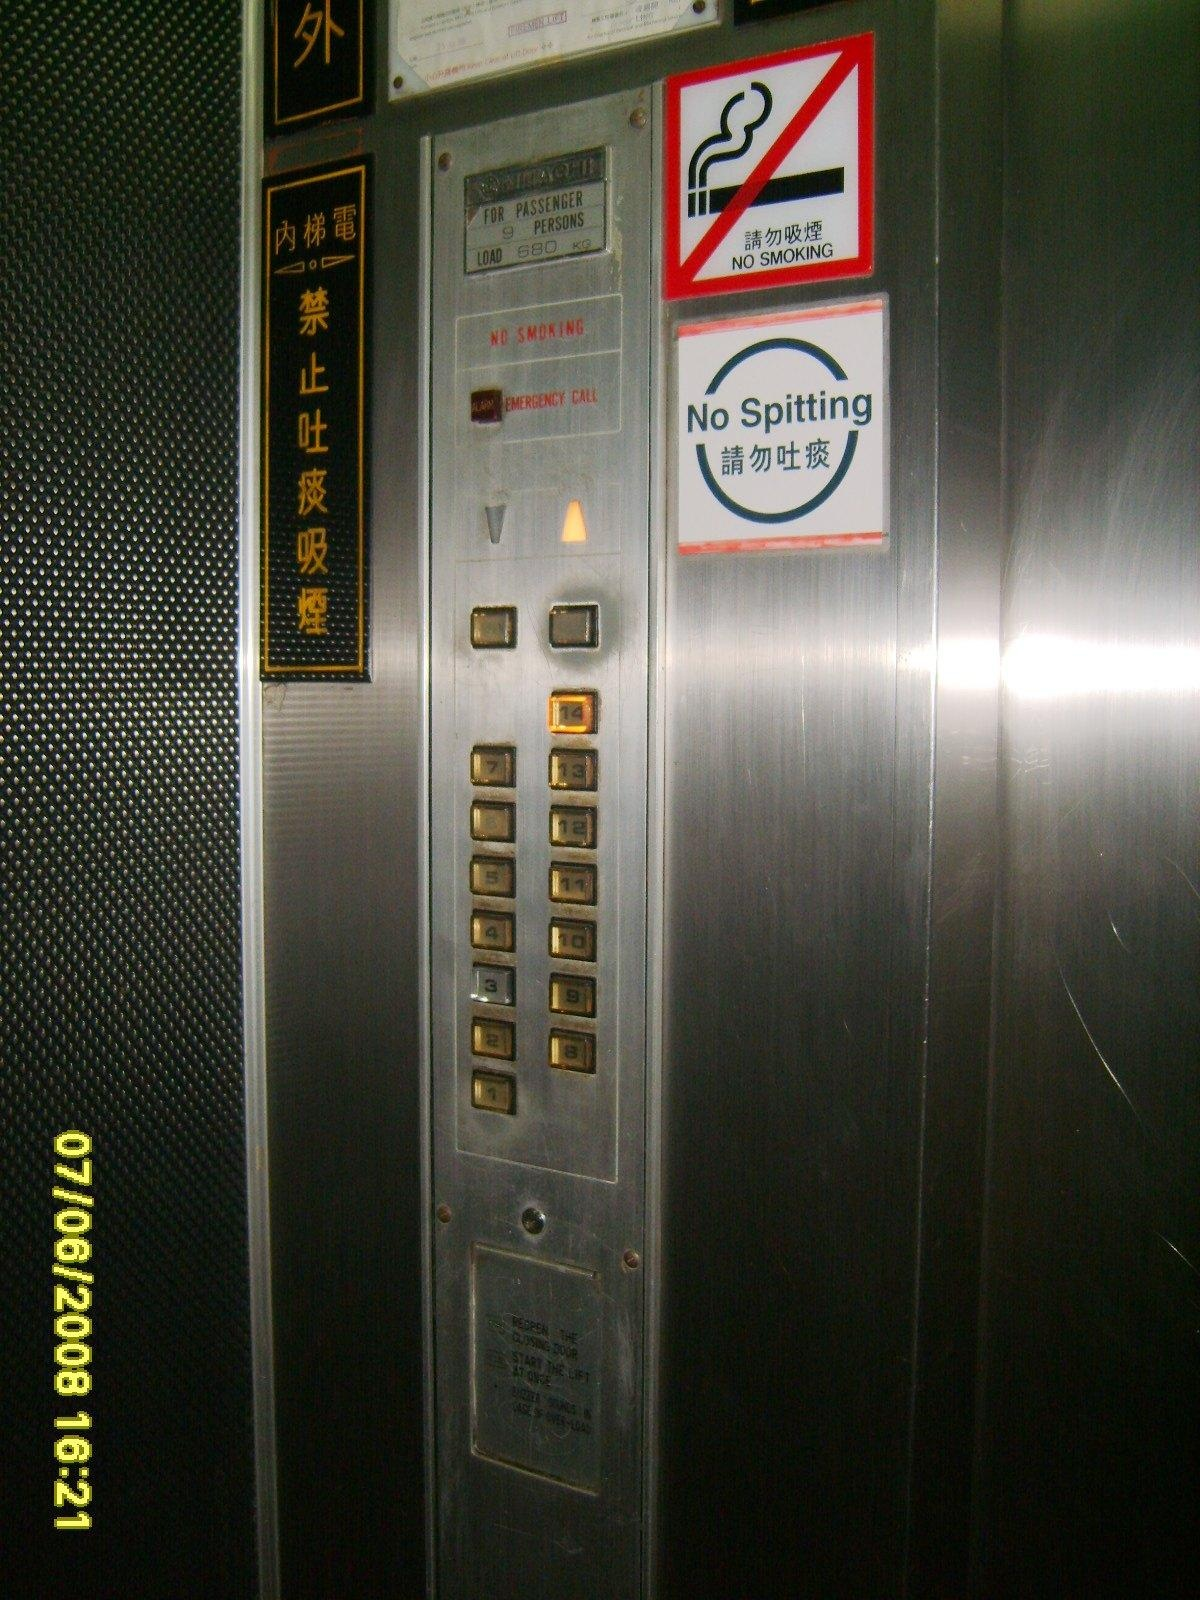1: (469, 1066, 521, 1115)
10: (546, 917, 600, 963)
11: (547, 860, 599, 906)
12: (547, 804, 600, 850)
13: (547, 746, 599, 792)
14: (546, 690, 600, 734)
2: (471, 1015, 516, 1062)
3: (471, 961, 518, 1007)
4: (468, 907, 518, 952)
5: (468, 854, 519, 900)
6: (468, 799, 519, 844)
7: (468, 743, 519, 790)
8: (548, 1026, 597, 1077)
9: (547, 973, 597, 1017)
empty: (468, 603, 519, 651), (547, 603, 600, 649), (470, 391, 504, 423)
keyhole: (521, 1207, 545, 1236)
